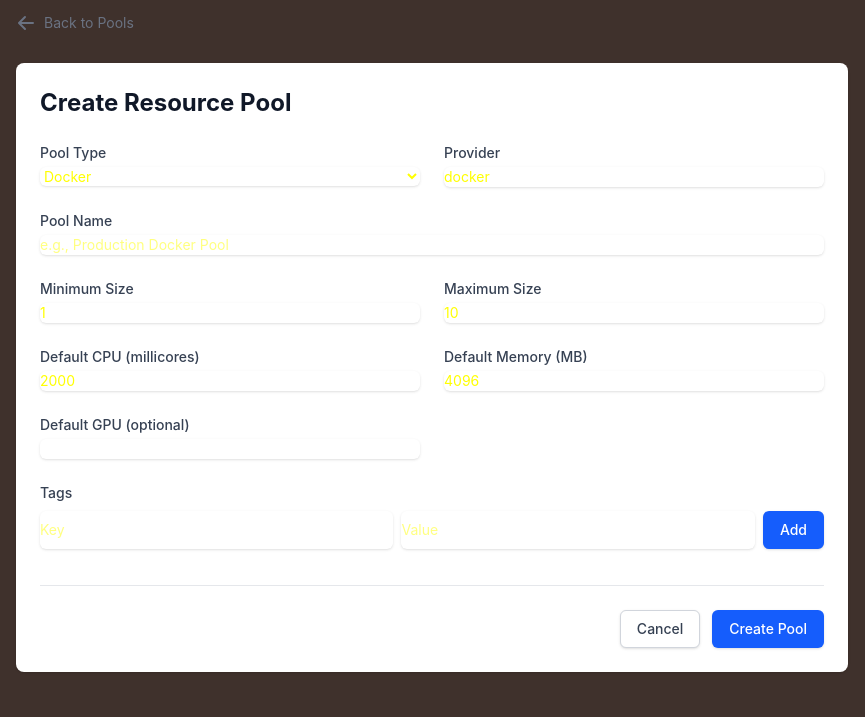
Test case: ResourcePoolForm › adds and removes tags correctly
Type "env" into the field with placeholder "Key" at (217, 530), box left=40, top=511, right=393, bottom=549
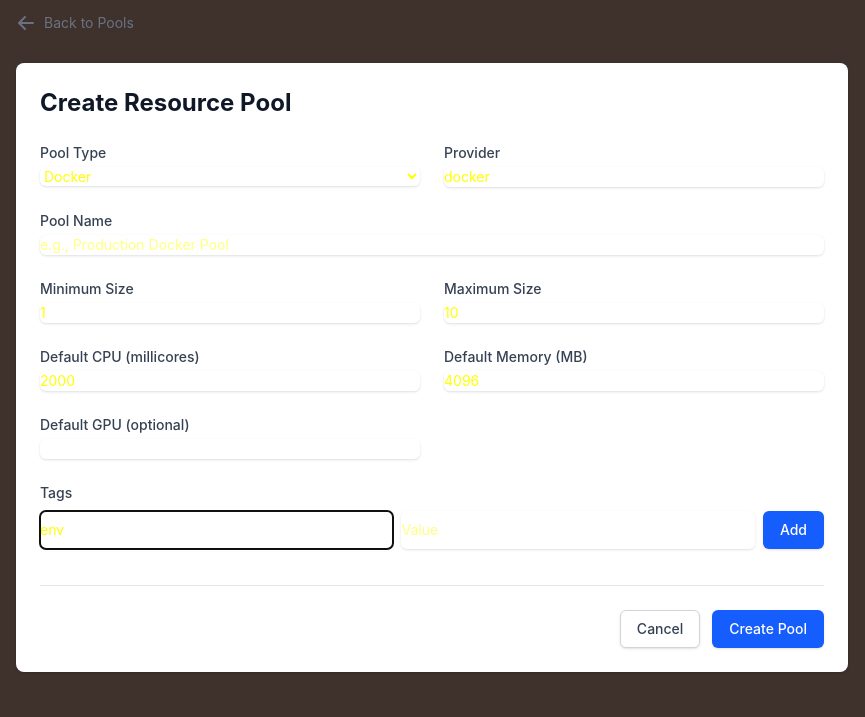
Type "test" into the field with placeholder "Value" at (578, 530), box left=401, top=511, right=755, bottom=549
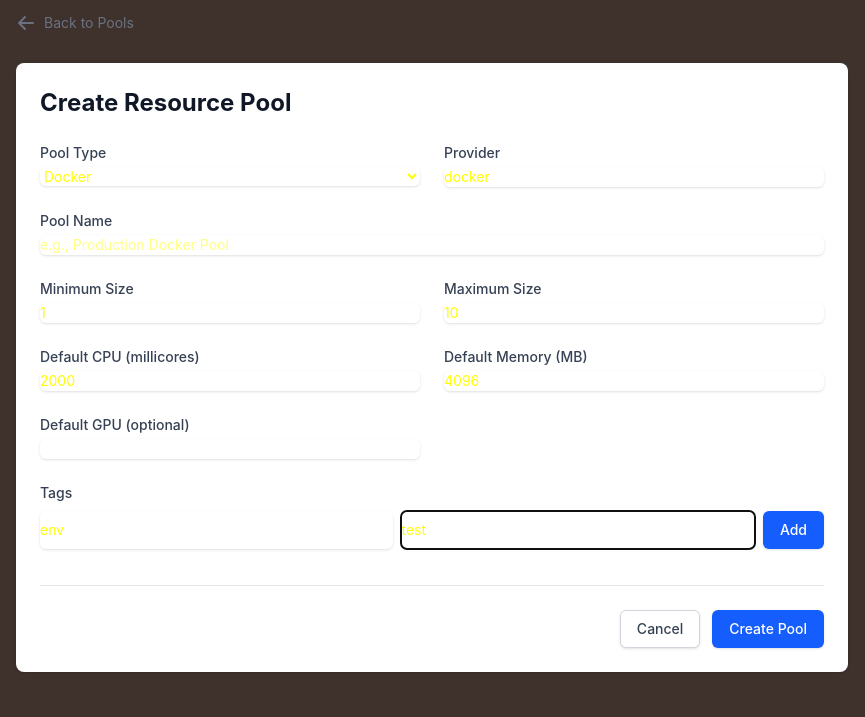
Click the button "Add" at (793, 530), box left=763, top=511, right=824, bottom=549
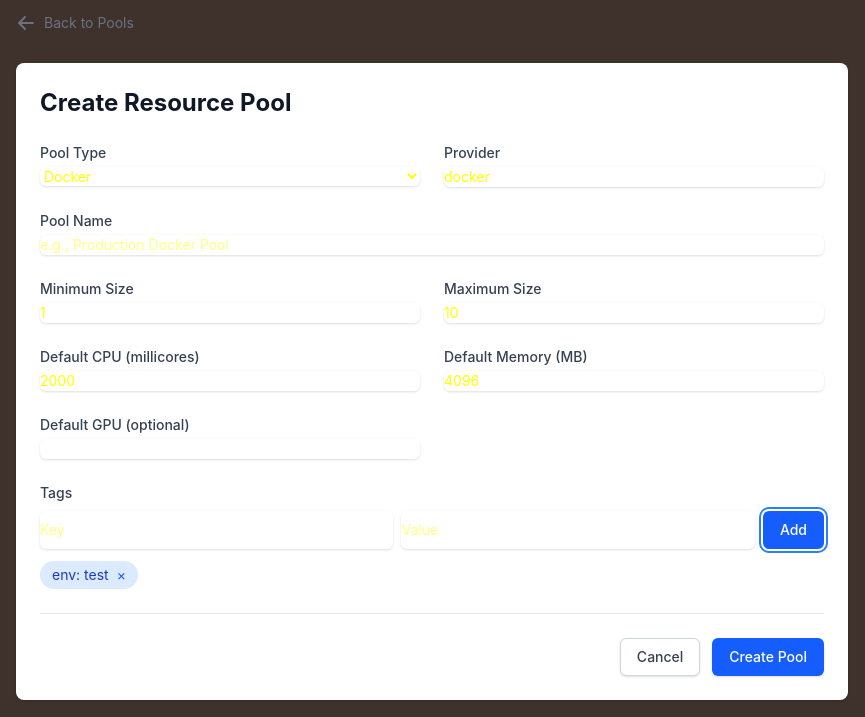
Expected: the text "env: test ×" is shown, left=40, top=561, right=138, bottom=589
Click the button "×" at (121, 575), box left=117, top=565, right=126, bottom=585
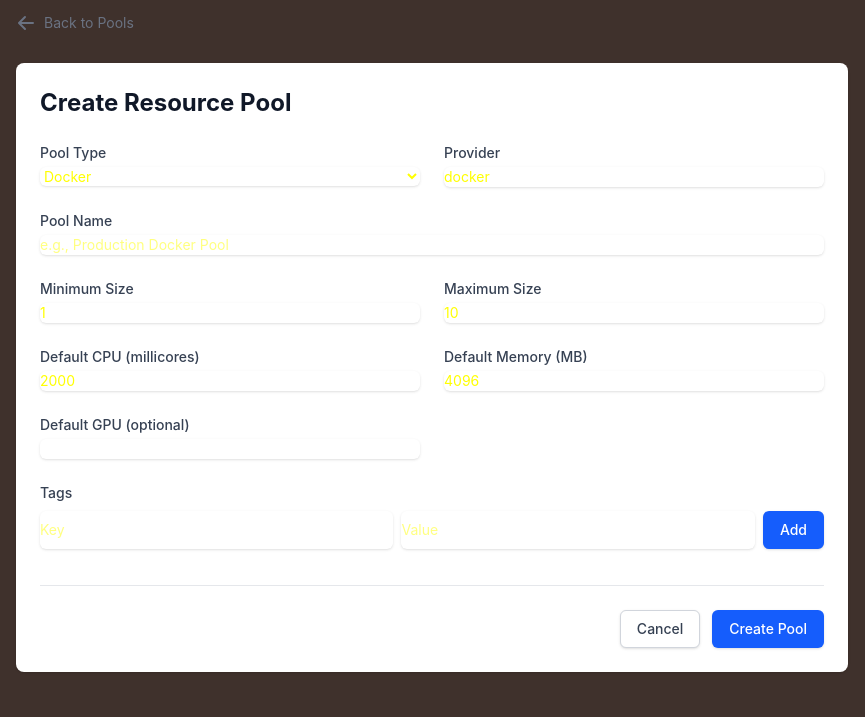
Expected: the text "env: test" is gone
